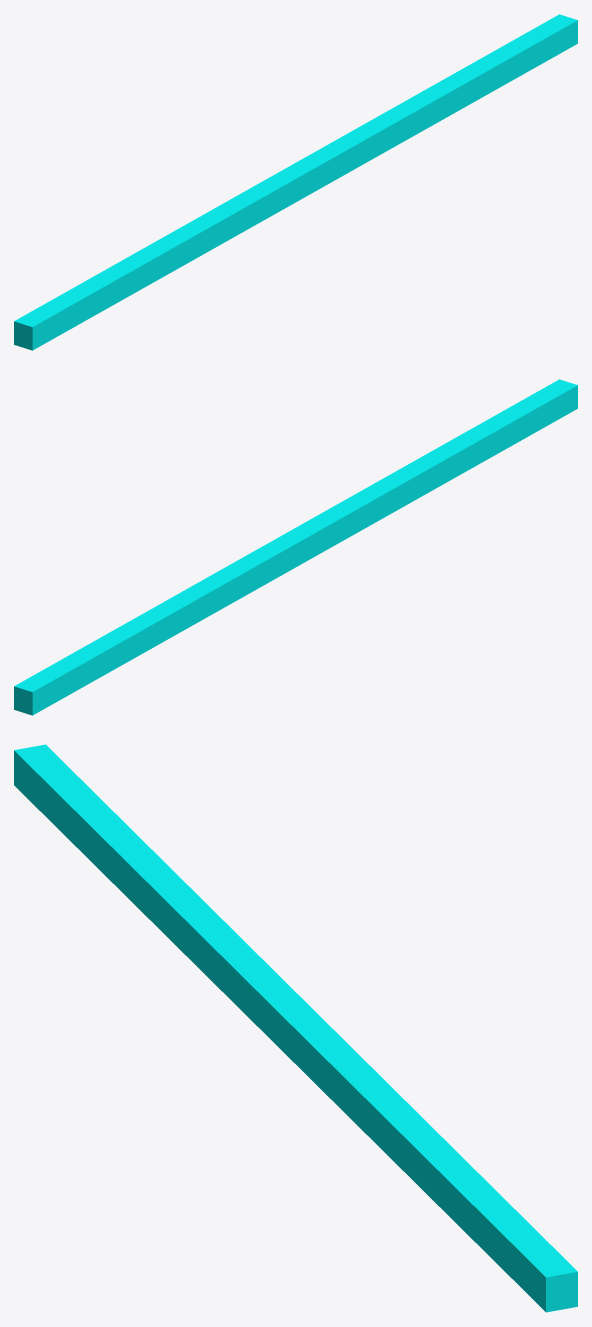
File: original-4.obj
3 views of the same model, one above another, from view 1: azimuth 30°, elevation 25°; view 2: azimuth 210°, elevation 25°; view 3: azimuth 270°, elevation 25° (orthographic). The views are drawn at different scales.
Visible parts, largest first — view 1: Group5/mesh3/mesh3-geometry#mesh3-geometry; view 2: Group5/mesh3/mesh3-geometry#mesh3-geometry; view 3: Group5/mesh3/mesh3-geometry#mesh3-geometry.
Boxes of the visible parts, left/top/right/bottom form: Group5/mesh3/mesh3-geometry#mesh3-geometry: left=14, top=14, right=577, bottom=350; Group5/mesh3/mesh3-geometry#mesh3-geometry: left=14, top=379, right=577, bottom=715; Group5/mesh3/mesh3-geometry#mesh3-geometry: left=14, top=744, right=577, bottom=1312.
Size of the model in its own units: 0.3821 by 0.0117 by 0.1709.
